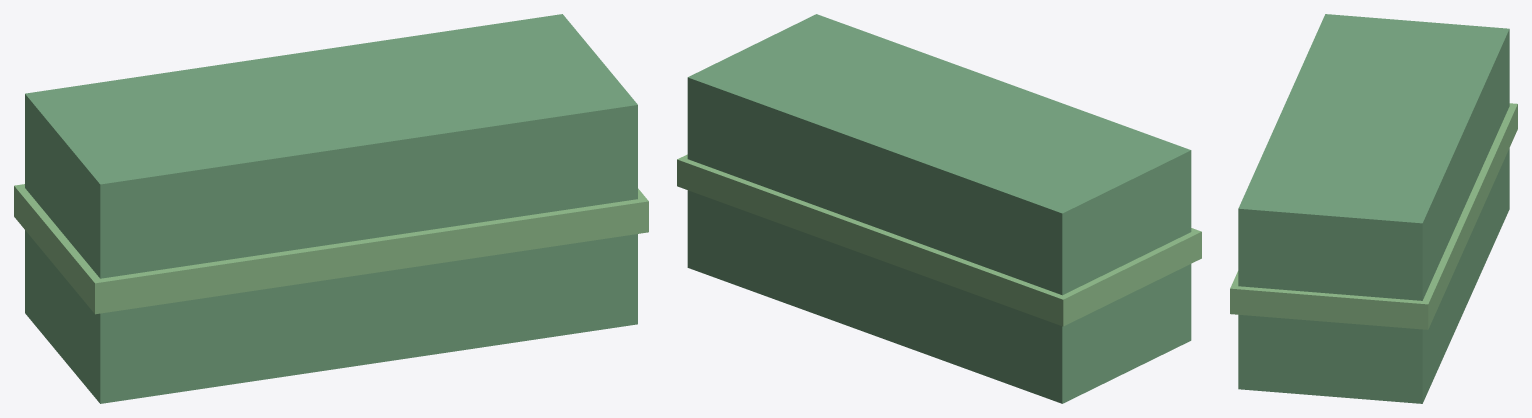
File: nature_hedge_block.glb
3 renders of one model, left to right at view 1: azimuth 30°, elevation 25°; view 2: azimuth 150°, elevation 25°; view 3: azimuth 270°, elevation 25°, orthographic. The views are drawn at different scales.
Visible parts, largest first — view 1: world; view 2: world; view 3: world.
Part boxes in pixels (<box>): world: <box>14,14,648,403</box>; world: <box>677,14,1201,403</box>; world: <box>1230,14,1517,403</box>.
Bounding box in the file's own units: 2 × 0.7784 × 1.12.
